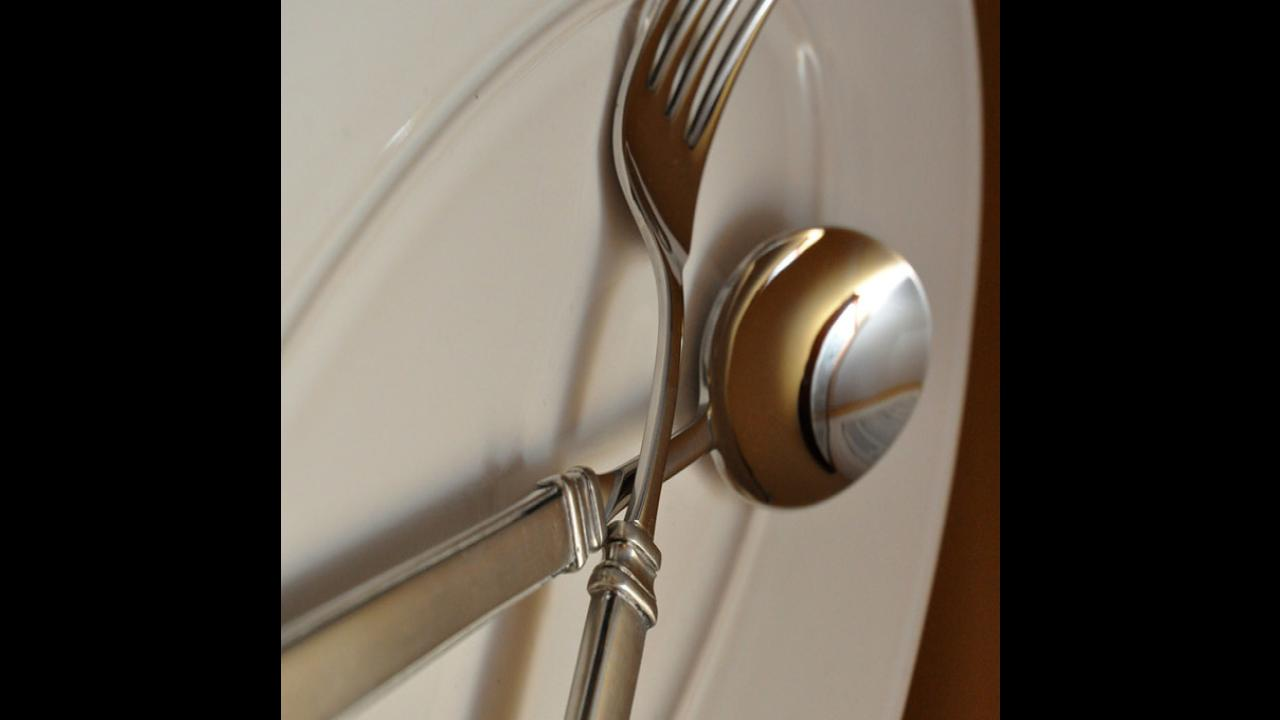fork: (502, 0, 827, 720)
